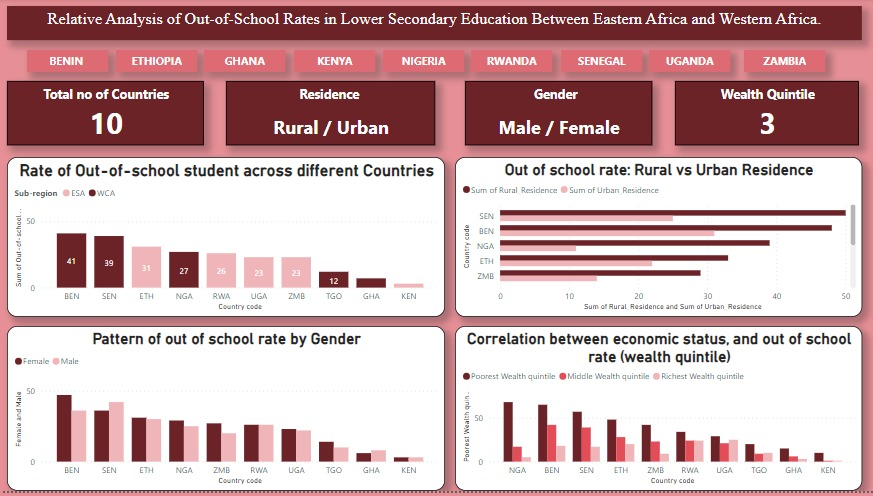

This screenshot's page, from the dashboard's own definition file:
{"tool":"powerbi","page":{"name":"Page 1","canvas":[1280,720],"ordinal":0},"visuals":[{"type":"columnChart","title":" Rate of Out-of-school student across different Countries","fields":{"Category":["Sheet1.ISO3"],"Y":["Sum(Sheet1.Out-of-school rate)"],"Series":["Sheet1.Sub-region"]},"box":[46.2,52.6,341.5,292.7],"z":0},{"type":"filledMap","fields":{"Category":["Sheet1.Countries"],"Series":["Sheet1.Sub-region"]},"box":[387.4,0,402.5,359.1],"z":1000},{"type":"clusteredColumnChart","title":"Pattern of out of school rate by Gender","fields":{"Category":["Sheet1.Country code"],"Y":["Sum(Sheet1.Female)","Sum(Sheet1.Male)"]},"box":[46.2,363.3,276,327.4],"z":2000},{"type":"clusteredColumnChart","title":"Correlation between economic status, and out of school rate (wealth quintile)","fields":{"Y":["Sum(Sheet1.Poorest_Wealth quintile)","Sum(Sheet1.Middle_Wealth quintile)","Sum(Sheet1.Richest_Wealth quintile)"],"Category":["Sheet1.Country code"]},"box":[843.5,52.6,376.2,278.6],"z":3000},{"type":"clusteredBarChart","title":"Out of school rate: Rural vs Urban Residence","fields":{"Category":["Sheet1.Country code"],"Y":["Sum(Sheet1.Rural_Residence)","Sum(Sheet1.Urban_Residence)"]},"box":[831.9,382.6,448.1,337.7],"z":4000},{"type":"clusteredBarChart","title":" Out of school rate by Development Levels","fields":{"Y":["Sum(Sheet1.Out-of-school rate)"],"Series":["Sheet1.Development Regions"],"Category":["Sheet1.Countries"]},"box":[336.4,382.6,466,288.9],"z":5000}]}

Visuals, with their boxes in screenshot pixels (x1, y1, x2, y2), scaled from the page's 1280x720 canvas onto the 873x496 screenshot:
" Rate of Out-of-school student across different Countries" columnChart: bbox=[32, 36, 264, 238]
filledMap - Sheet1.Countries x Sheet1.Sub-region: bbox=[264, 0, 539, 247]
"Pattern of out of school rate by Gender" clusteredColumnChart: bbox=[32, 250, 220, 476]
"Correlation between economic status, and out of school rate (wealth quintile)" clusteredColumnChart: bbox=[575, 36, 832, 228]
"Out of school rate: Rural vs Urban Residence" clusteredBarChart: bbox=[567, 264, 872, 495]
" Out of school rate by Development Levels" clusteredBarChart: bbox=[229, 264, 547, 463]
